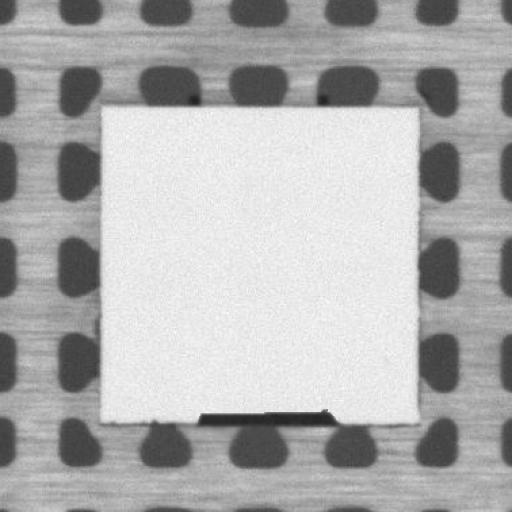DIE_BROKEN: (195, 400, 343, 427)
